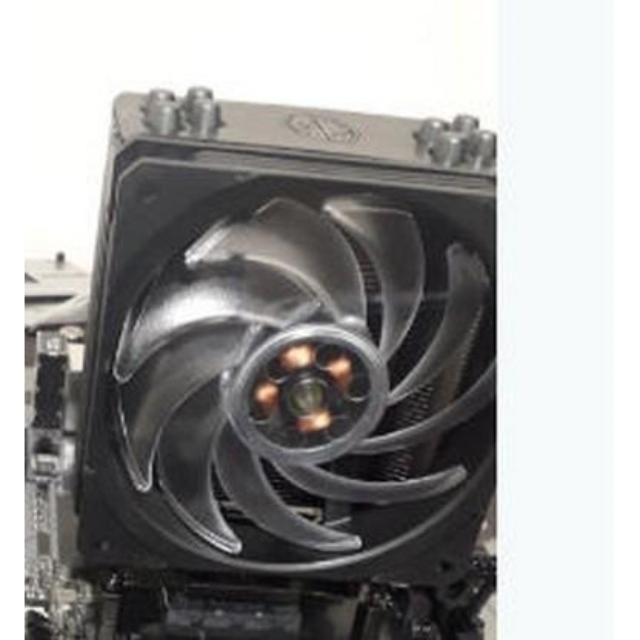CPU_Fan: (78, 89, 490, 582)
